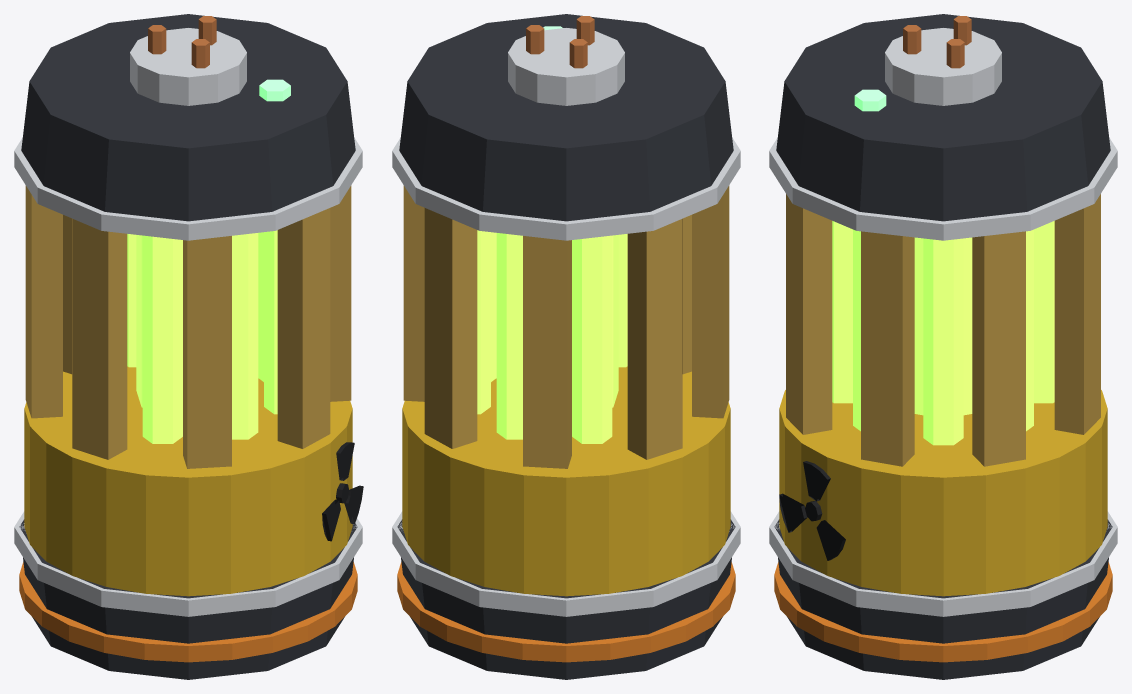
File: uranium_quality.glb
3 views of the same model, side by side, from view 1: azimuth 30°, elevation 25°; view 2: azimuth 150°, elevation 25°; view 3: azimuth 270°, elevation 25° (orthographic).
Visible parts, largest first — view 1: uranium_quality; view 2: uranium_quality; view 3: uranium_quality.
Boxes of the visible parts, left/top/right/bottom form: uranium_quality: left=14, top=14, right=363, bottom=679; uranium_quality: left=392, top=14, right=740, bottom=679; uranium_quality: left=769, top=14, right=1117, bottom=679.
Bounding box in the file's own units: 0.1545 × 0.285 × 0.1545.
